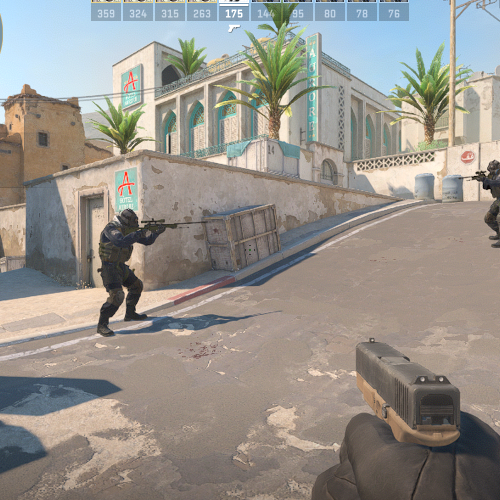ct_body: (96, 206, 147, 338), (483, 160, 499, 248)
ct_head: (119, 207, 140, 232), (486, 160, 499, 175)
